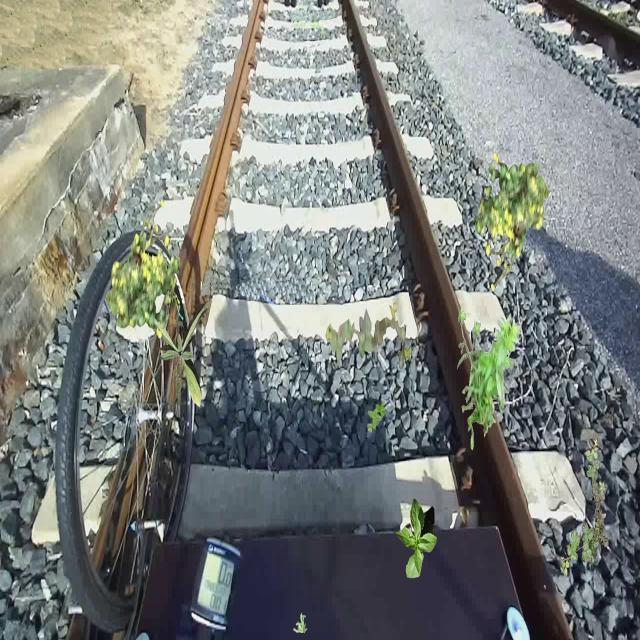Plant: (106, 199, 181, 339), (475, 152, 550, 292), (457, 307, 522, 450), (139, 301, 210, 409), (560, 438, 608, 576), (325, 302, 412, 370), (395, 499, 437, 579), (367, 401, 386, 434), (294, 613, 308, 634)
